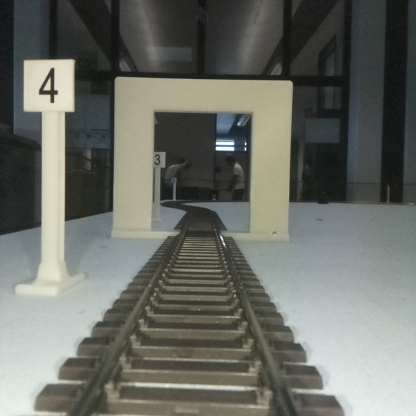white-info-4: (23, 60, 74, 292)
